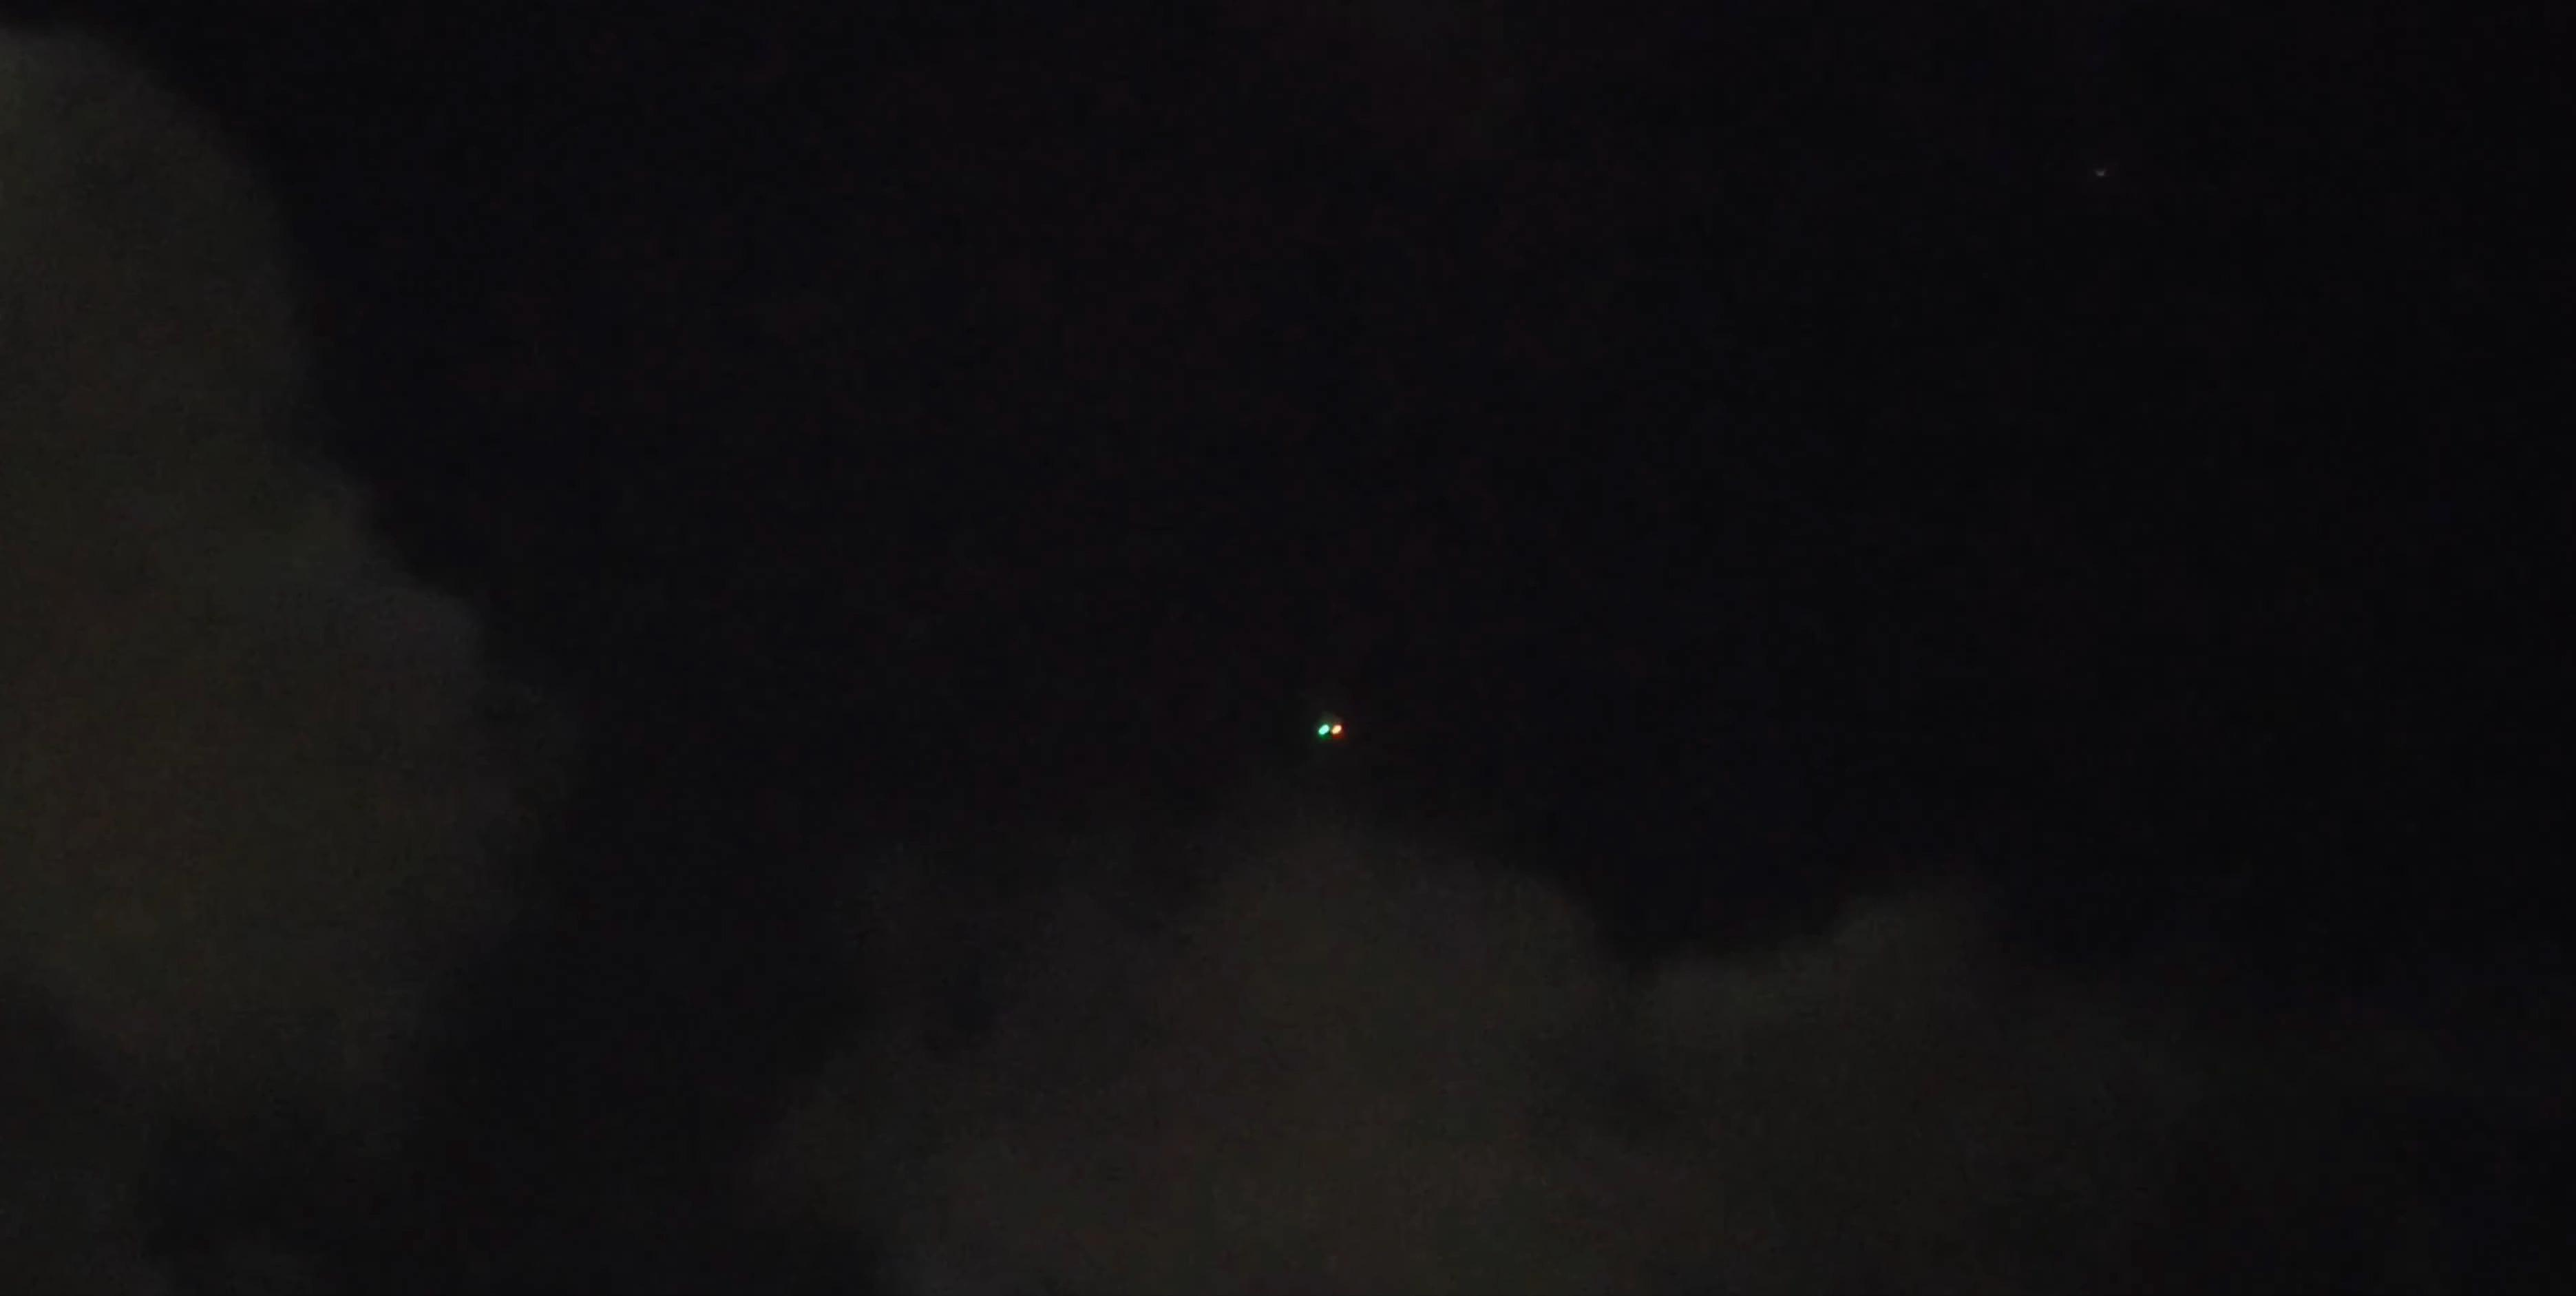Plane: (1304, 711, 1362, 747)
